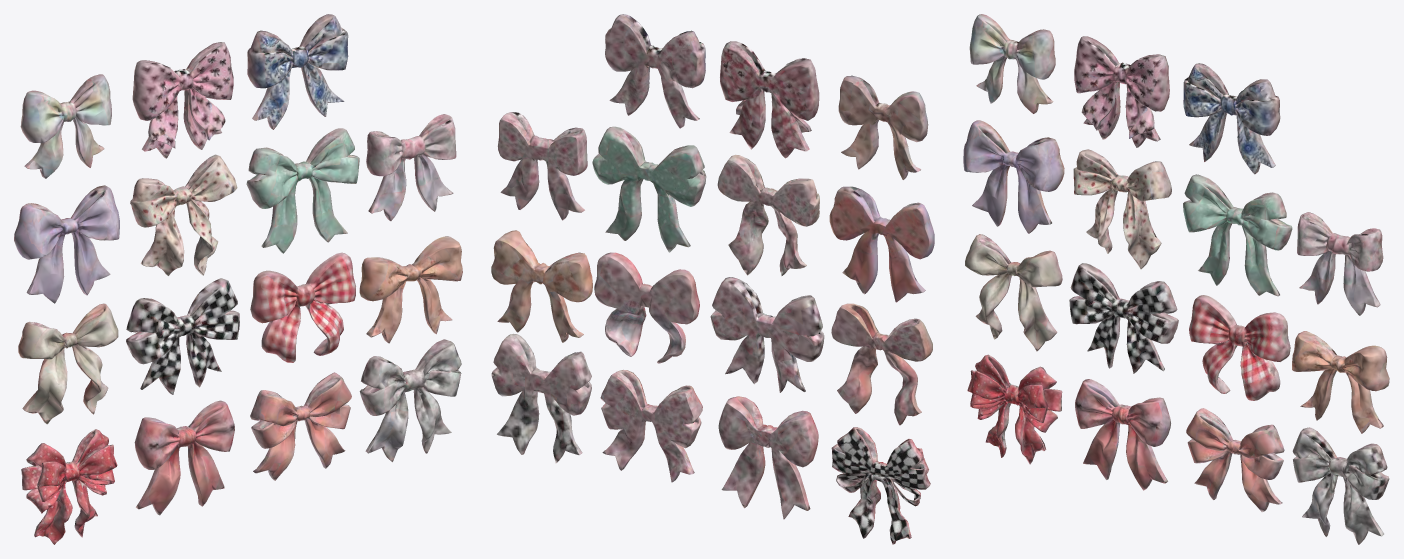
3 renders of one model, left to right at view 1: azimuth 30°, elevation 25°; view 2: azimuth 150°, elevation 25°; view 3: azimuth 330°, elevation 25°, orthographic. The views are drawn at different scales.
Visible parts, largest first — view 1: Mesh 5, Mesh 7, Mesh 9, Mesh 1, Mesh 15, Mesh 12, Mesh 8, Mesh 10, Mesh 6, Mesh 3, Mesh 2, Mesh 11 (+3 smaller); view 2: Mesh 5, Mesh 9, Mesh 7, Mesh 15, Mesh 8, Mesh 1, Mesh 12, Mesh 10, Mesh 11, Mesh 6, Mesh 3, Mesh 2 (+3 smaller); view 3: Mesh 5, Mesh 9, Mesh 7, Mesh 1, Mesh 12, Mesh 15, Mesh 8, Mesh 10, Mesh 6, Mesh 3, Mesh 11, Mesh 2 (+3 smaller).
Boxes of the visible parts, left/top/right/bottom form: Mesh 5: left=126, top=278, right=239, bottom=394; Mesh 7: left=132, top=42, right=233, bottom=158; Mesh 9: left=246, top=128, right=359, bottom=253; Mesh 1: left=14, top=185, right=119, bottom=303; Mesh 15: left=359, top=339, right=461, bottom=462; Mesh 12: left=250, top=252, right=355, bottom=362; Mesh 8: left=134, top=400, right=234, bottom=515; Mesh 10: left=247, top=14, right=348, bottom=129; Mesh 6: left=130, top=154, right=237, bottom=275; Mesh 3: left=21, top=429, right=117, bottom=544; Mesh 2: left=18, top=303, right=118, bottom=424; Mesh 11: left=250, top=372, right=351, bottom=480; Mesh 5: left=710, top=277, right=824, bottom=392; Mesh 9: left=592, top=126, right=706, bottom=252; Mesh 7: left=720, top=41, right=819, bottom=158; Mesh 15: left=491, top=334, right=591, bottom=463; Mesh 8: left=718, top=396, right=818, bottom=519; Mesh 1: left=829, top=186, right=934, bottom=302; Mesh 12: left=594, top=252, right=699, bottom=363; Mesh 10: left=605, top=14, right=705, bottom=128; Mesh 11: left=600, top=370, right=702, bottom=482; Mesh 6: left=717, top=154, right=819, bottom=275; Mesh 3: left=831, top=427, right=930, bottom=544; Mesh 2: left=831, top=303, right=932, bottom=425; Mesh 5: left=1069, top=263, right=1178, bottom=373; Mesh 9: left=1183, top=174, right=1292, bottom=296; Mesh 7: left=1074, top=36, right=1169, bottom=147; Mesh 1: left=963, top=120, right=1064, bottom=233; Mesh 12: left=1189, top=295, right=1290, bottom=400; Mesh 15: left=1292, top=427, right=1389, bottom=544; Mesh 8: left=1075, top=379, right=1170, bottom=490; Mesh 10: left=1183, top=63, right=1280, bottom=174; Mesh 6: left=1073, top=149, right=1171, bottom=269; Mesh 3: left=967, top=354, right=1062, bottom=464; Mesh 11: left=1186, top=408, right=1284, bottom=512; Mesh 2: left=965, top=234, right=1062, bottom=351.
Bounding box in the file's own units: 1.9 × 1.9 × 0.1411.
15 materials, 15 textured.
